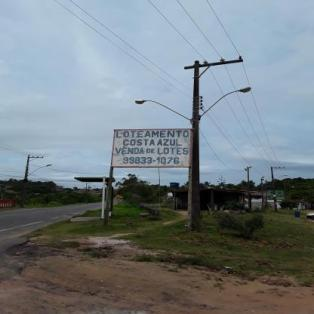Poste: (182, 57, 208, 231)
